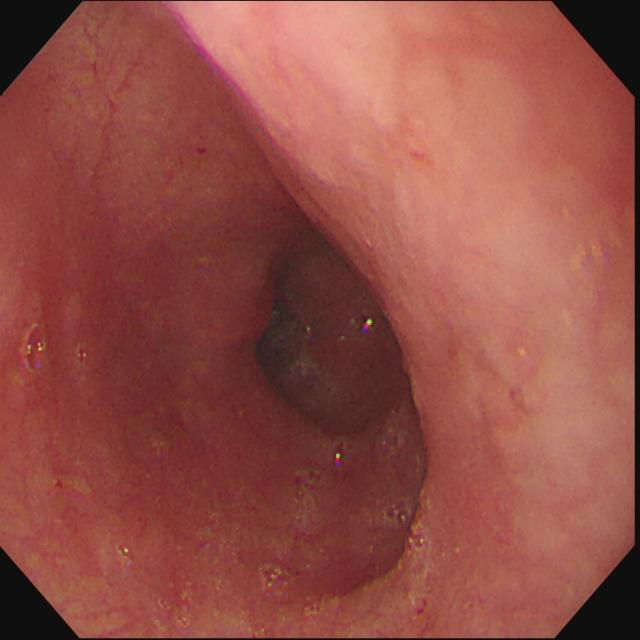E: (251, 232, 412, 437)
T: (293, 464, 327, 524), (20, 323, 50, 378), (257, 553, 294, 592), (379, 493, 416, 532), (406, 520, 428, 563)
